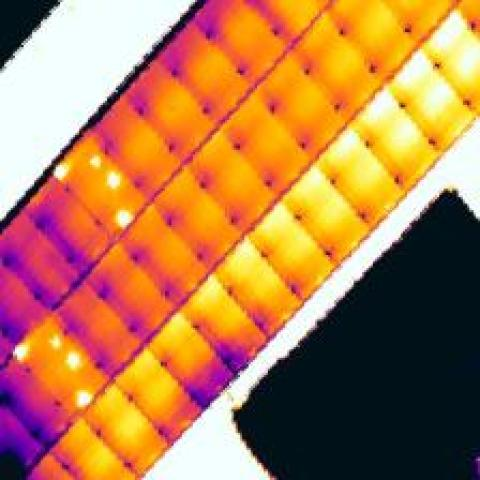fault: (11, 341, 36, 366), (73, 388, 98, 411), (111, 208, 135, 231), (49, 163, 75, 184), (103, 167, 122, 193), (64, 347, 84, 371), (45, 332, 66, 352), (86, 152, 103, 169)
